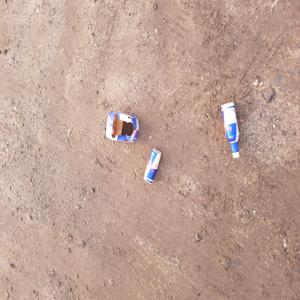cardboard: (102, 106, 145, 149)
metal: (142, 147, 164, 184)
plastic bottle: (218, 93, 245, 164)
